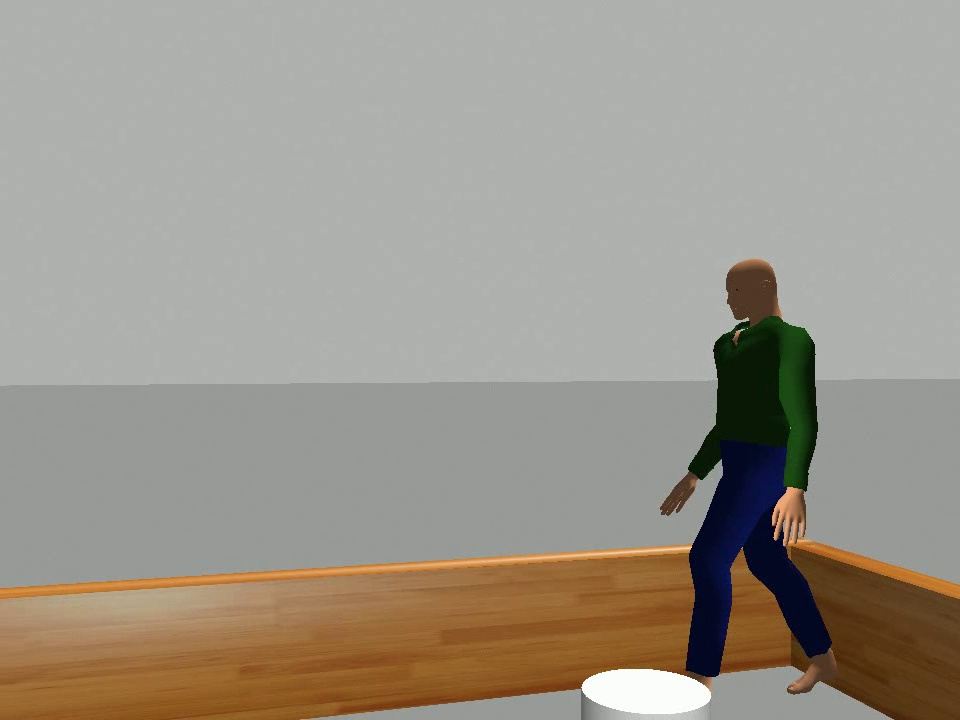person: (658, 254, 843, 697)
